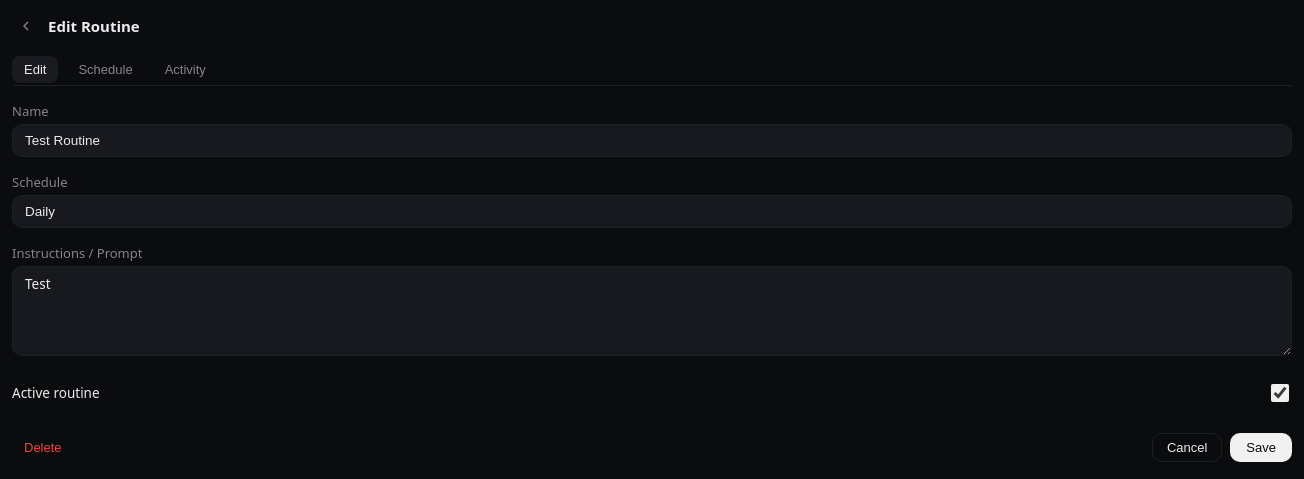
Test case: RoutineEditor integration › renders schedule tab when editing existing routine
Step 1. Click the button "Schedule" → (106, 70), box 66,56 -> 145,83
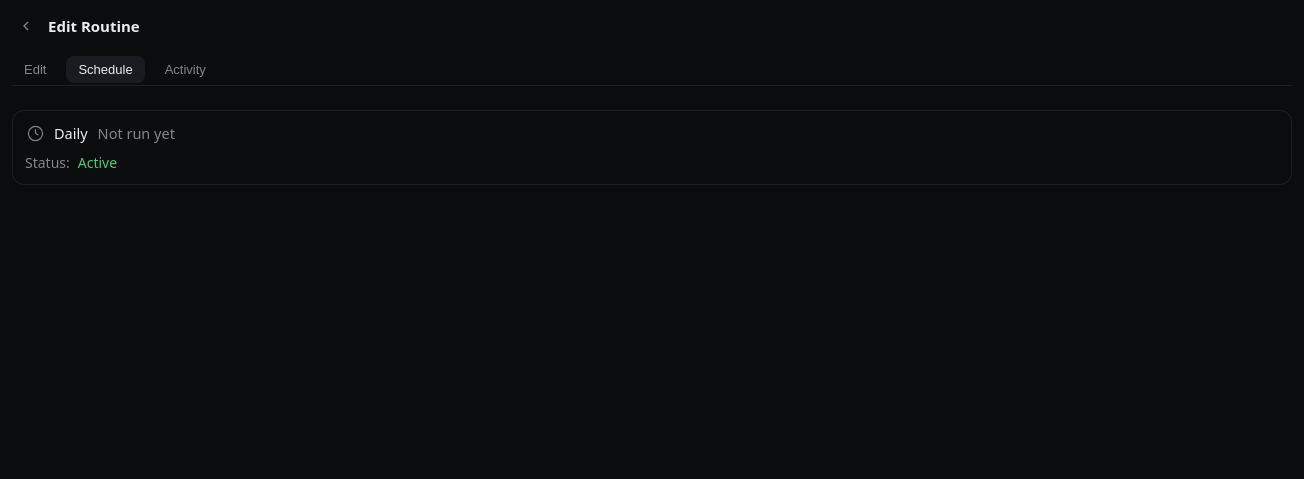
Check: the text "Daily" is shown, box 54,123 -> 88,143
